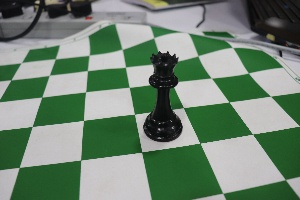black_queen: (139, 32, 185, 147)
